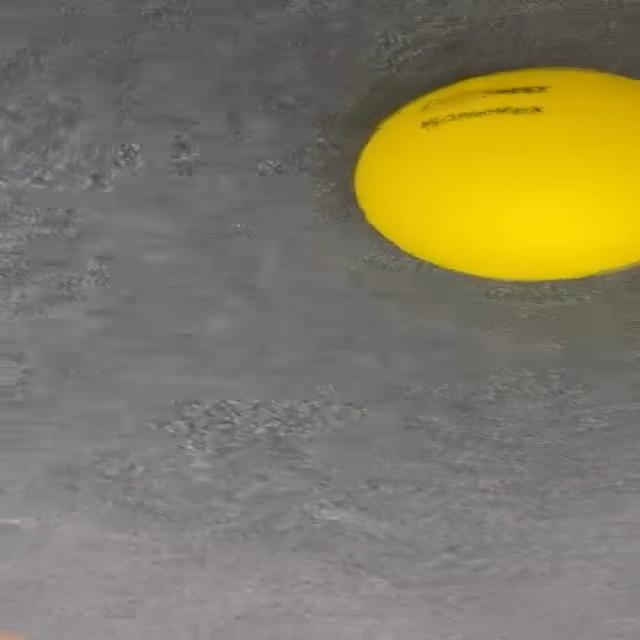Fuels: (357, 64, 640, 281)
